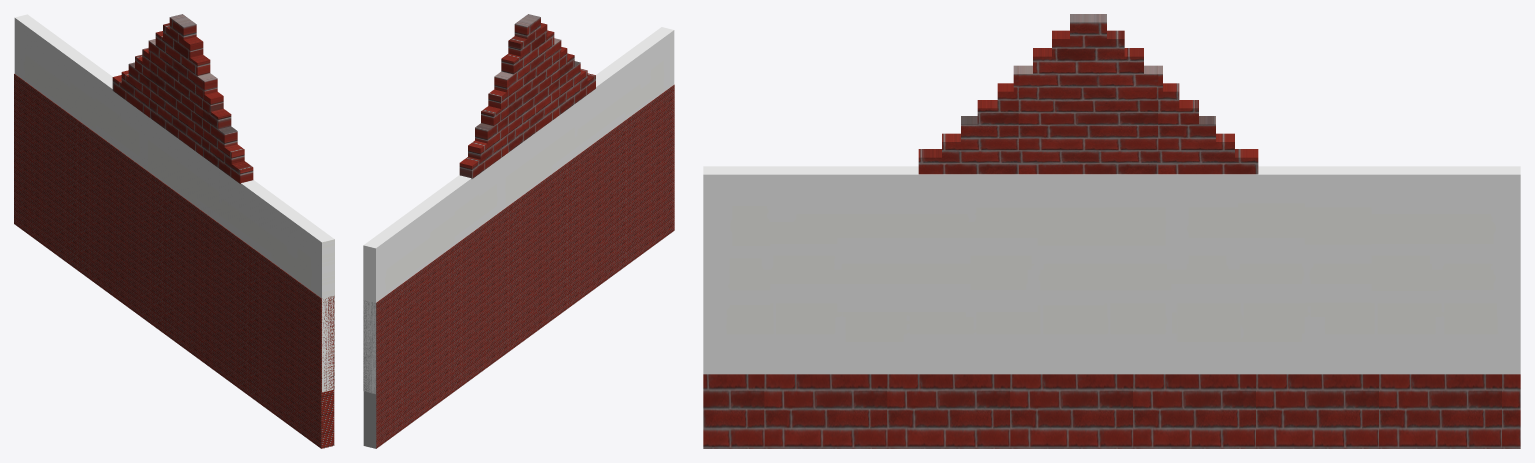
File: sabraNameBoard.fbx
3 renders of one model, left to right at view 1: azimuth 30°, elevation 25°; view 2: azimuth 150°, elevation 25°; view 3: azimuth 270°, elevation 25°, orthographic. The views are drawn at different scales.
Parts seen in each view (by area): view 1: pCube14, pCube13, pCube11; view 2: pCube14, pCube13, pCube11; view 3: pCube13, pCube14, pCube11.
Boxes of the visible parts, x1=… form: pCube14: x1=14, y1=74, x2=334, y2=448; pCube13: x1=14, y1=14, x2=334, y2=392; pCube11: x1=112, y1=14, x2=253, y2=184; pCube14: x1=363, y1=84, x2=674, y2=448; pCube13: x1=363, y1=27, x2=674, y2=393; pCube11: x1=459, y1=14, x2=595, y2=178; pCube13: x1=703, y1=166, x2=1520, y2=374; pCube14: x1=703, y1=374, x2=1520, y2=448; pCube11: x1=918, y1=14, x2=1258, y2=174.
Bounding box in the file's own units: 1.27 × 29.15 × 50.62.
4 materials, 3 textured.
